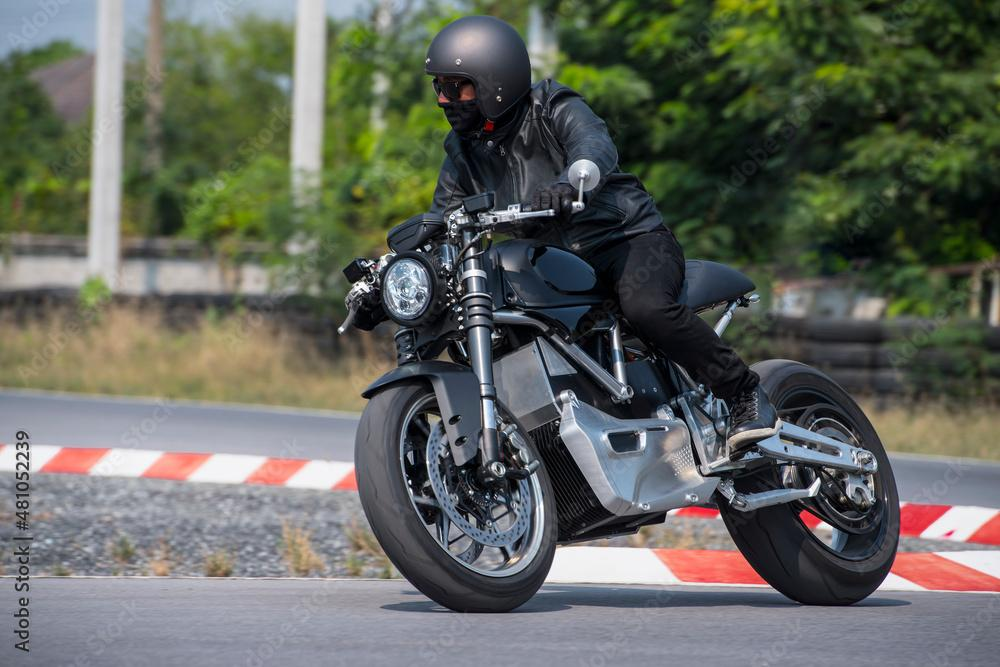helmet: (424, 14, 532, 140)
